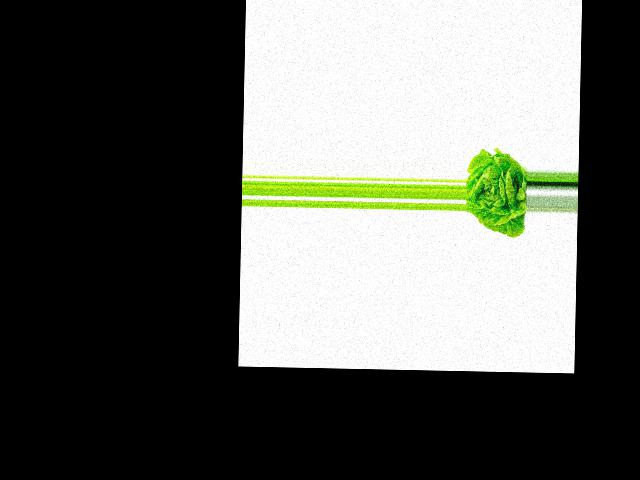lettuce: (465, 150, 528, 239)
